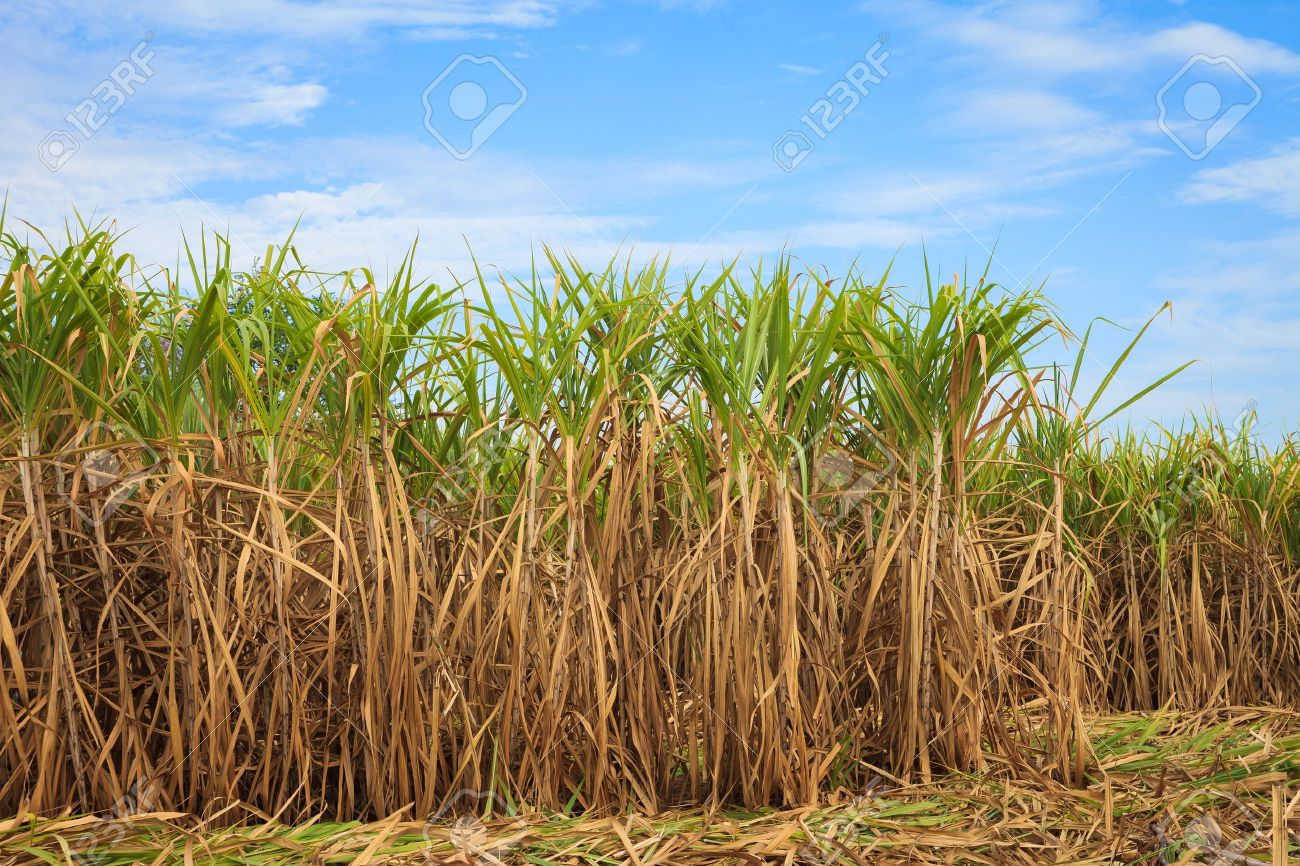sugarcane: (8, 229, 1121, 815), (2, 224, 508, 841), (1060, 381, 1297, 716)
